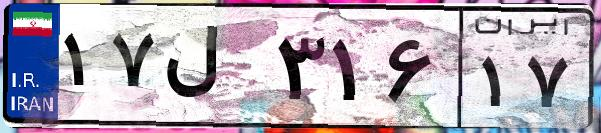1: (330, 28, 385, 110), (57, 26, 110, 100), (475, 38, 525, 113)
3: (270, 28, 330, 110)
6: (385, 28, 445, 110)
7: (525, 38, 570, 115), (110, 28, 158, 98)
ل: (158, 20, 270, 120)
